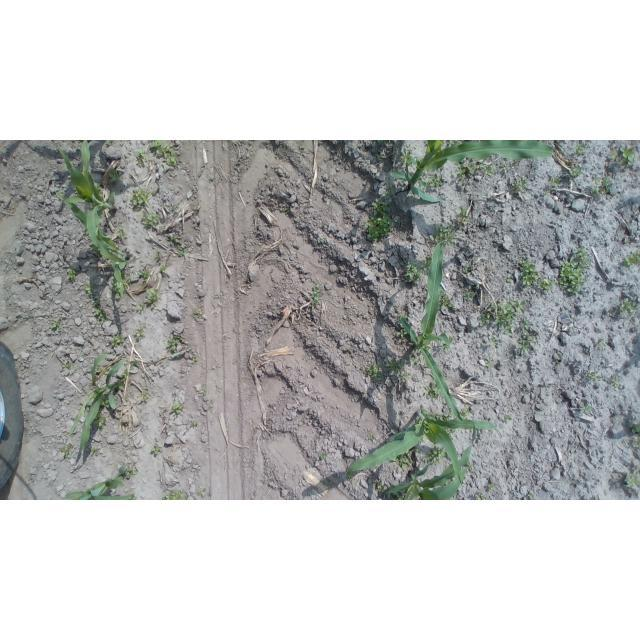Maize: (396, 241, 468, 423), (346, 408, 498, 488), (389, 140, 555, 205), (56, 140, 127, 264), (54, 189, 130, 300), (386, 422, 476, 500), (68, 353, 127, 463), (65, 467, 132, 500)
Weeds: (478, 299, 530, 338), (364, 198, 400, 243), (558, 246, 590, 295), (519, 257, 554, 292), (457, 162, 496, 186), (112, 255, 132, 301), (148, 140, 180, 166), (433, 225, 456, 248), (423, 445, 449, 464), (404, 260, 424, 284), (130, 188, 153, 207), (166, 334, 183, 359), (592, 177, 612, 198), (92, 300, 109, 324), (140, 210, 161, 228), (394, 451, 412, 472), (143, 288, 160, 309), (618, 298, 638, 315), (619, 147, 635, 168), (423, 172, 443, 188), (438, 288, 454, 308), (519, 334, 534, 355), (626, 468, 640, 489), (454, 205, 470, 223), (624, 249, 640, 267), (312, 284, 323, 309), (108, 168, 125, 184), (163, 489, 187, 500), (135, 149, 150, 166), (386, 359, 403, 374), (365, 365, 382, 380), (512, 177, 527, 194), (426, 385, 443, 399), (136, 268, 152, 282), (92, 413, 106, 428), (420, 256, 432, 273), (394, 151, 412, 162), (113, 226, 127, 240), (460, 462, 474, 475), (436, 412, 455, 421), (50, 320, 63, 333), (460, 408, 473, 421), (99, 394, 111, 408), (464, 286, 475, 301), (172, 402, 184, 415), (60, 444, 72, 457), (67, 267, 78, 281), (549, 176, 561, 188), (112, 334, 124, 346), (84, 282, 95, 295), (630, 421, 640, 435), (177, 246, 189, 257), (575, 144, 585, 157), (397, 324, 407, 337), (445, 427, 456, 438), (590, 373, 602, 383), (490, 337, 502, 347), (413, 157, 423, 169), (151, 445, 161, 456), (571, 167, 582, 177), (410, 357, 422, 366), (608, 149, 618, 159), (596, 338, 605, 349), (383, 188, 394, 197), (462, 264, 471, 275), (193, 309, 202, 320), (136, 328, 145, 339), (140, 392, 149, 403), (61, 364, 75, 371), (378, 140, 397, 145), (446, 141, 459, 148), (633, 437, 640, 449), (377, 482, 384, 494), (196, 489, 205, 498), (118, 380, 126, 390), (127, 469, 137, 477), (89, 447, 99, 455), (475, 493, 486, 500), (488, 483, 497, 491), (348, 475, 356, 484), (584, 404, 591, 414), (136, 303, 144, 311), (402, 372, 410, 380), (484, 359, 492, 367), (543, 188, 551, 196), (501, 164, 508, 173), (160, 264, 167, 273), (154, 252, 161, 261), (128, 492, 135, 500), (95, 182, 102, 190), (318, 236, 325, 244), (507, 274, 514, 282), (121, 370, 128, 378), (200, 387, 206, 396), (611, 379, 617, 388), (441, 342, 447, 351), (171, 236, 180, 242), (321, 454, 328, 461), (425, 345, 432, 352), (209, 174, 216, 181), (443, 479, 451, 485), (449, 336, 455, 344), (120, 422, 129, 427), (521, 387, 528, 393), (97, 366, 103, 373), (283, 207, 289, 214), (506, 415, 512, 422), (130, 362, 138, 367), (514, 159, 520, 165), (437, 145, 443, 151), (104, 369, 110, 375), (195, 205, 201, 211), (73, 187, 78, 194), (192, 421, 197, 428), (529, 493, 534, 500), (378, 155, 383, 162), (207, 404, 213, 409), (299, 144, 305, 149), (414, 448, 420, 453), (191, 360, 196, 365), (105, 140, 111, 144), (369, 435, 374, 439), (396, 318, 400, 323), (402, 316, 408, 319), (559, 356, 563, 360), (212, 366, 216, 370), (436, 485, 440, 487)
